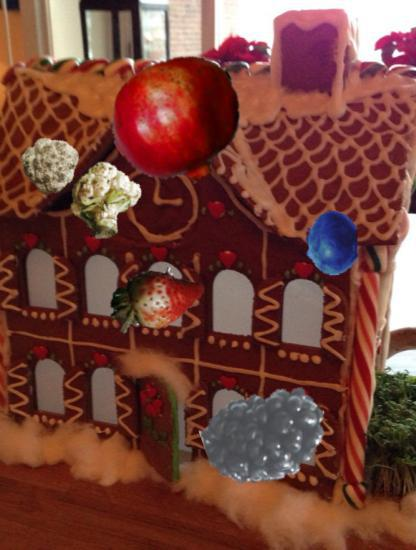Cauliflower: (70, 164, 141, 235), (19, 137, 78, 196)
Huckleberry: (300, 211, 365, 276)
Mulberry: (204, 375, 330, 501)
Pomegranate: (112, 54, 246, 188)
Strawberry: (111, 258, 201, 348)
